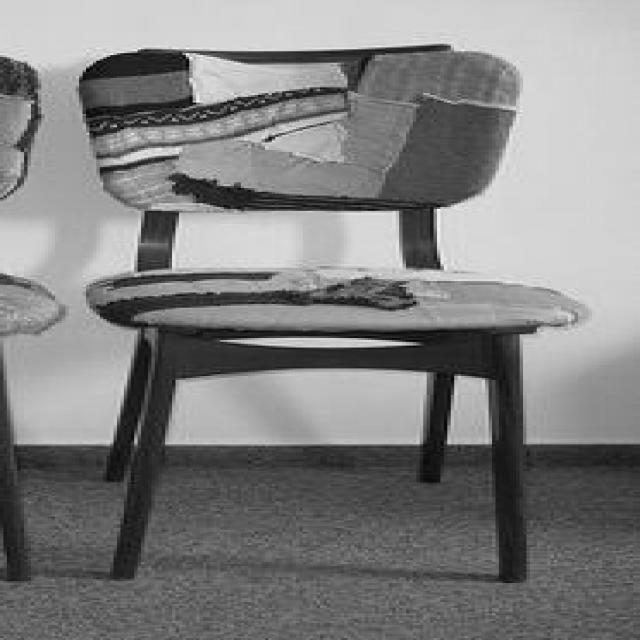chair: (66, 44, 554, 583)
